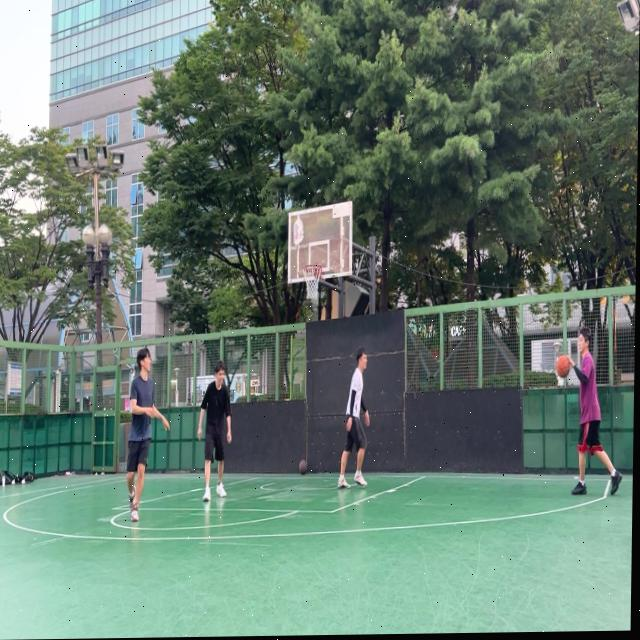basketball: (557, 354, 569, 377), (299, 459, 308, 476)
hoop: (301, 263, 323, 301)
